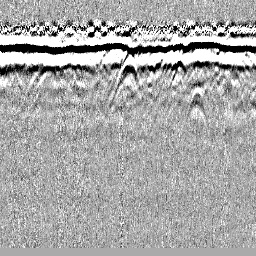cavity: (109, 54, 144, 108)
